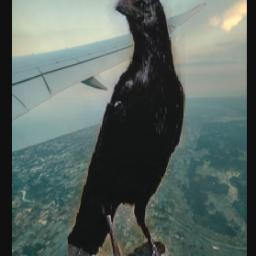Crow: (68, 0, 185, 256)
